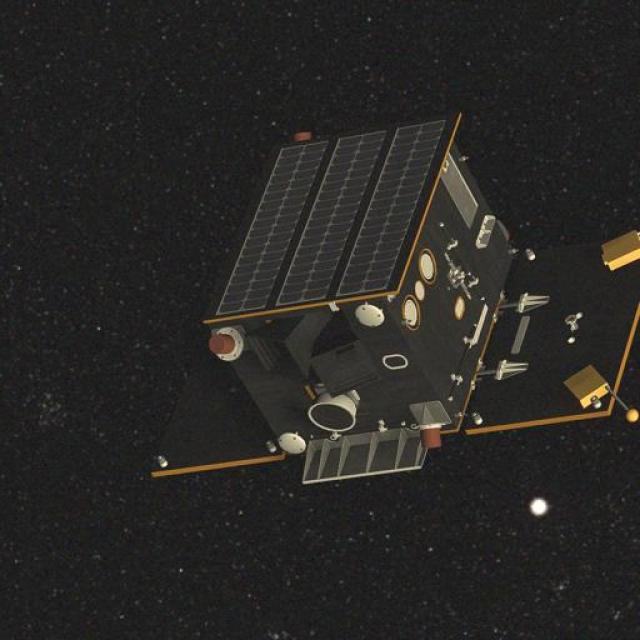proba_2: (135, 128, 639, 480)
